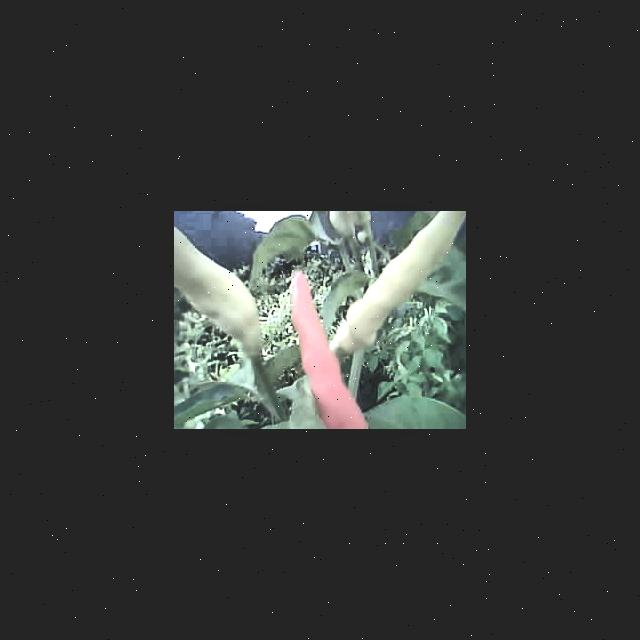Cabai: (291, 269, 343, 429)
